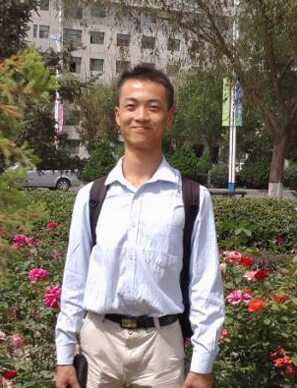noWear: (113, 87, 173, 147)
